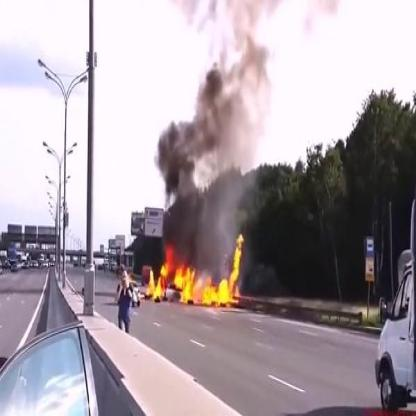fire: (164, 229, 250, 310), (145, 265, 165, 301)
